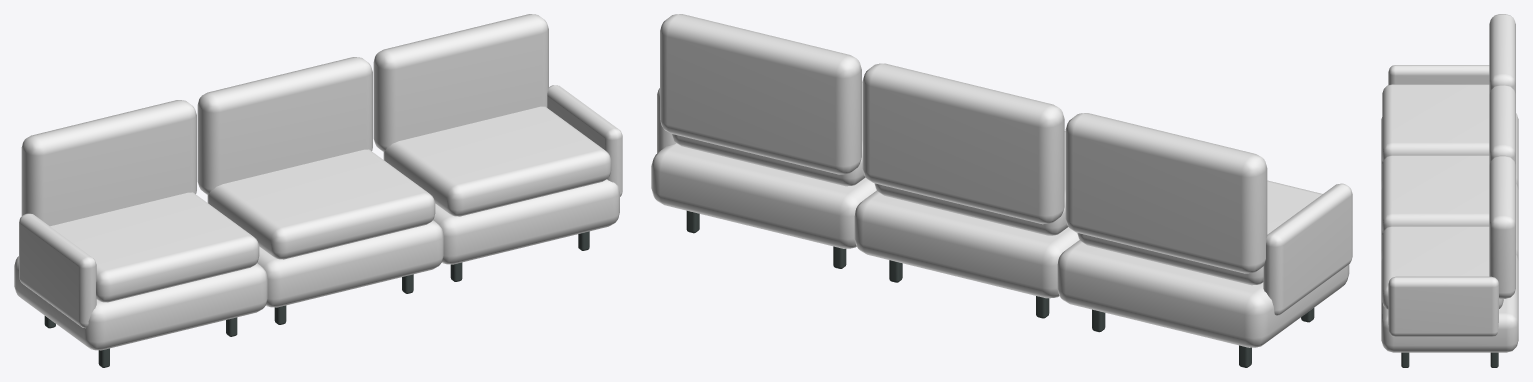
The model's file is sofa-v1.glb.
The picture shows the model from 3 angles, left to right: view 1: azimuth 30°, elevation 25°; view 2: azimuth 150°, elevation 25°; view 3: azimuth 270°, elevation 25°; orthographic projection. The views are drawn at different scales.
Visible parts, largest first — view 1: Upholstered modular plinth; view 2: Upholstered modular plinth; view 3: Upholstered modular plinth.
Boxes of the visible parts, x1,y1,x2,y2 form: Upholstered modular plinth: [14, 14, 622, 367]; Upholstered modular plinth: [651, 14, 1352, 367]; Upholstered modular plinth: [1381, 14, 1518, 367].
Bounding box in the file's own units: 2.9 × 0.96 × 0.77.
2 materials, 1 textured.
